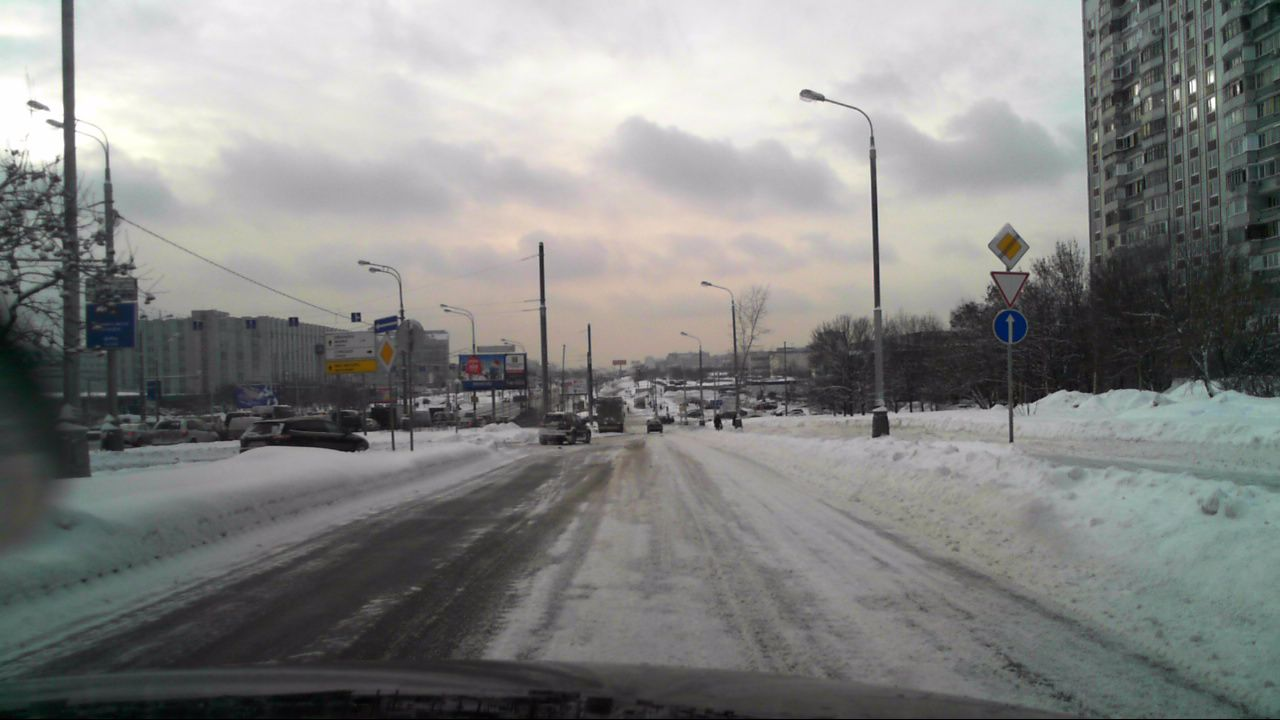main road: (987, 223, 1029, 270)
